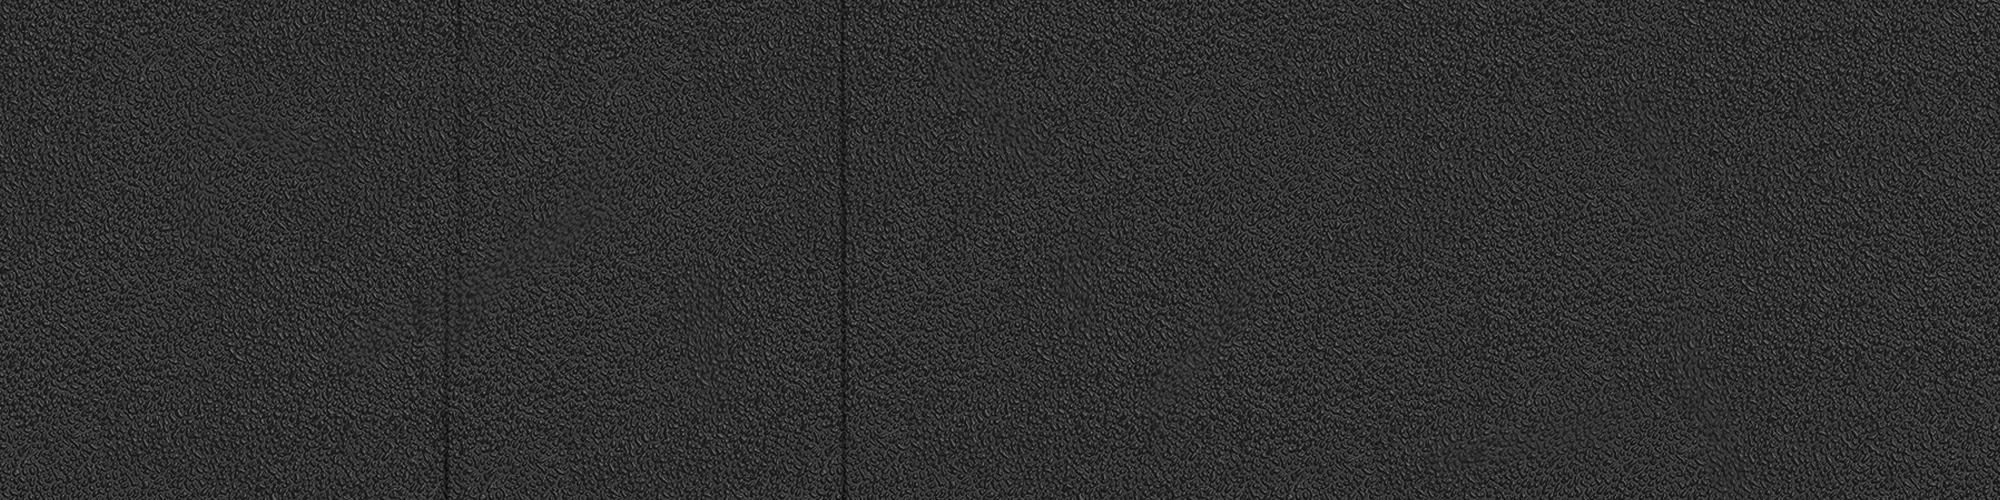DieDrag: (423, 11, 474, 494), (821, 4, 864, 494)
